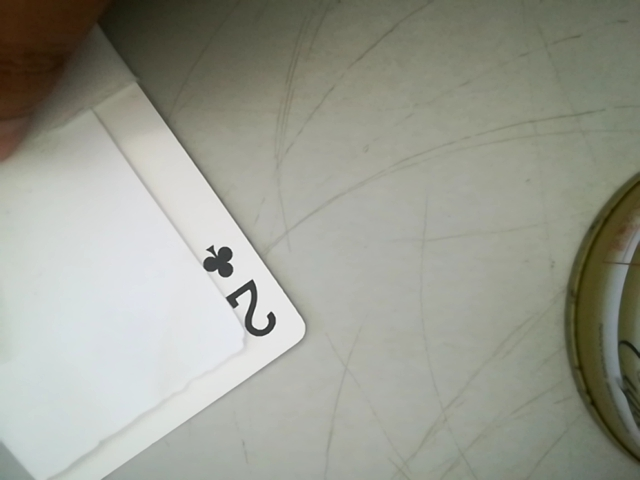mh 2: (200, 230, 280, 351)
